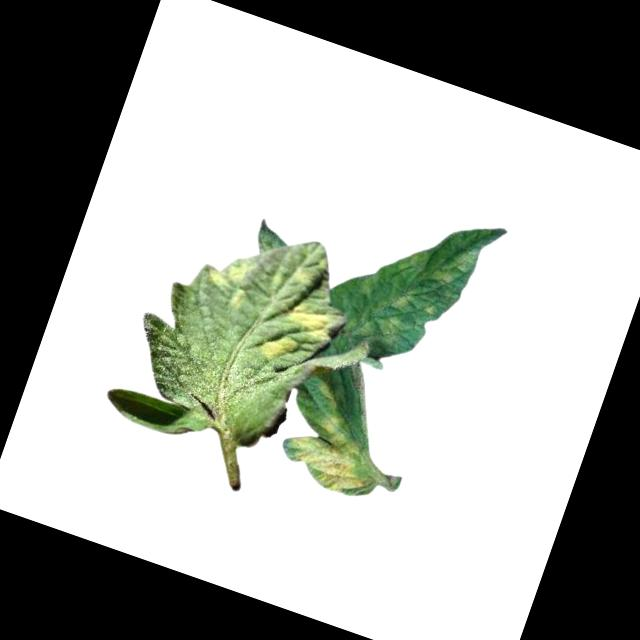Leaf_Mold: (279, 378, 389, 500), (200, 246, 258, 312), (378, 283, 434, 345), (425, 237, 480, 293), (283, 295, 342, 342), (253, 323, 300, 370)
